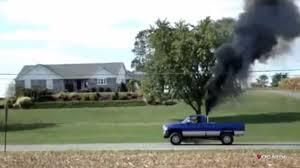smoke: (198, 3, 300, 115)
